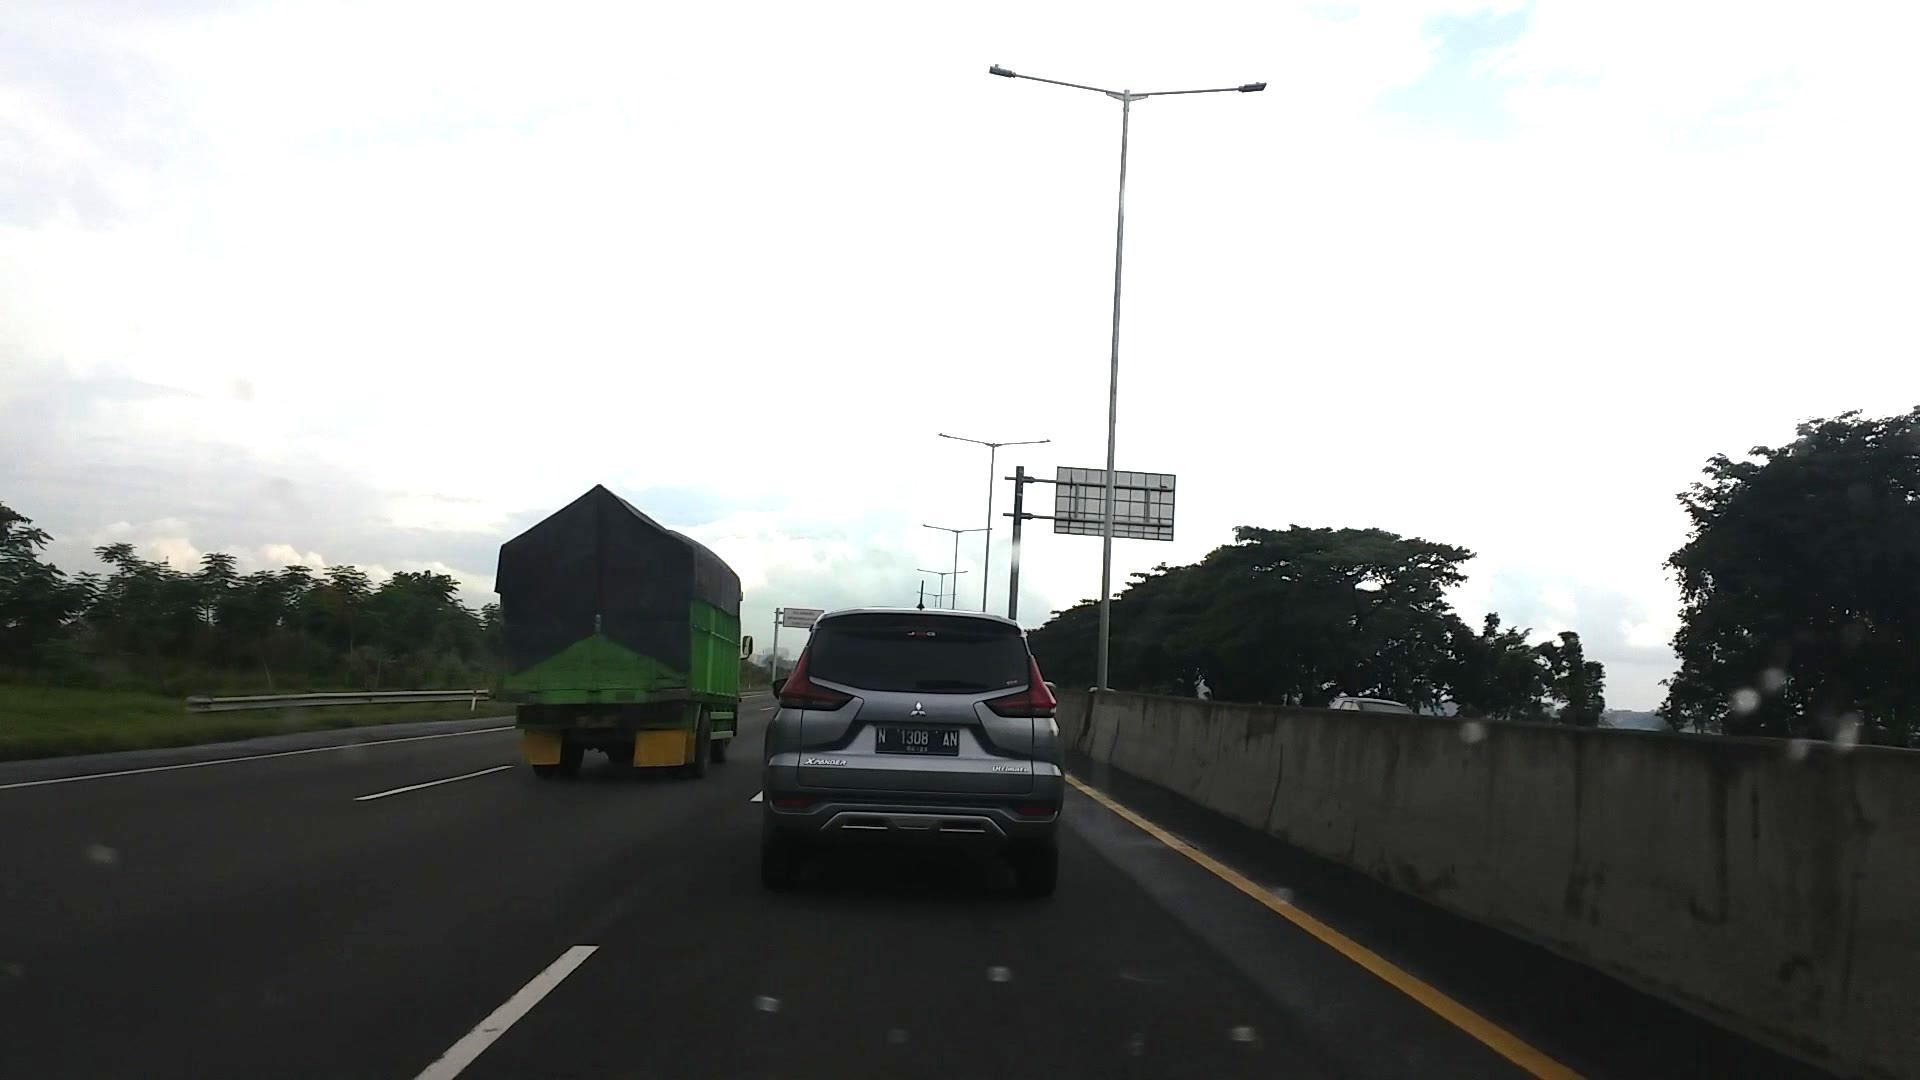plate_positive: (876, 725, 959, 756)
